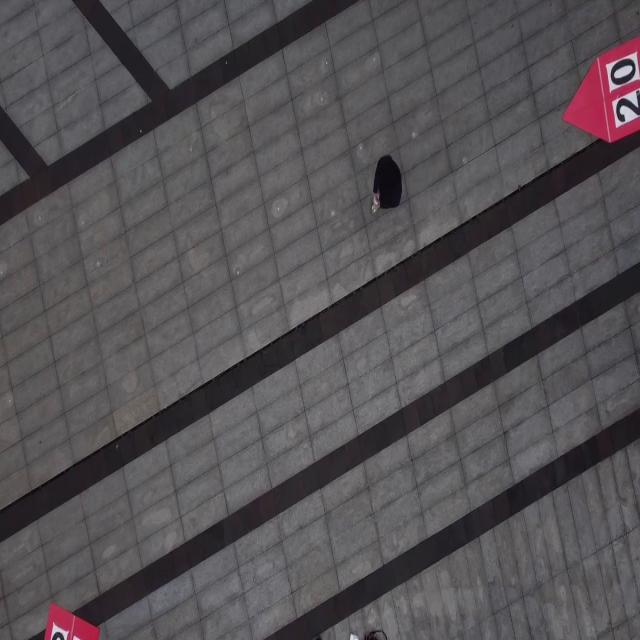-sign-: (562, 35, 639, 144), (44, 603, 100, 638)
